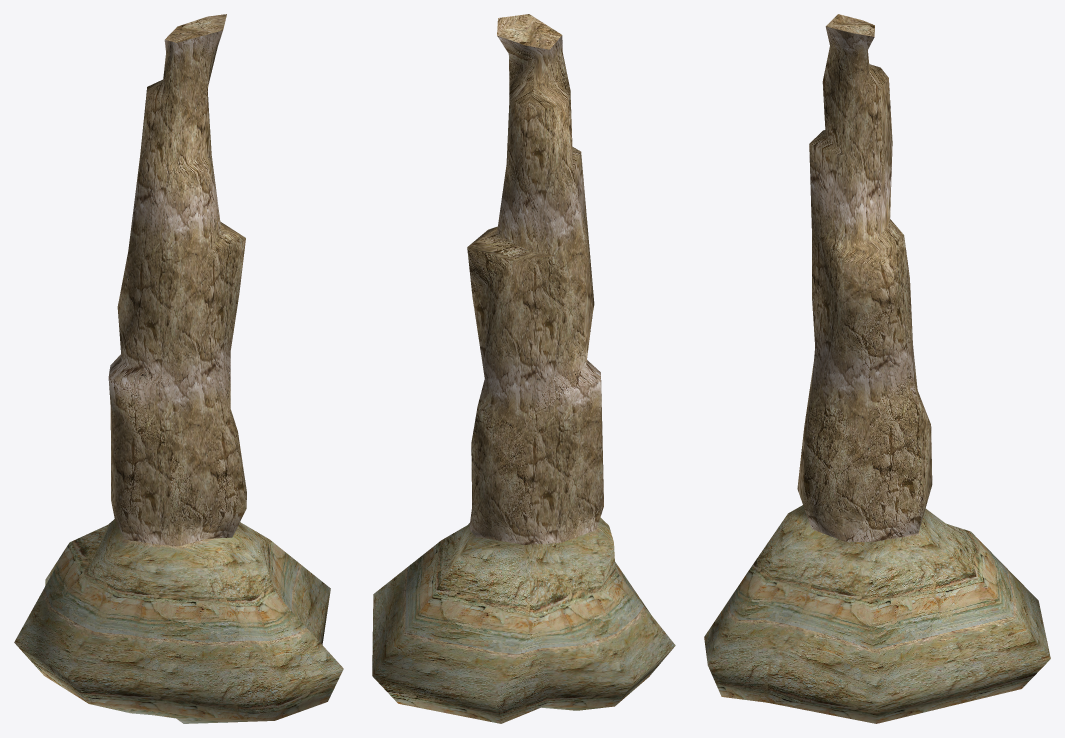
Rendered from dsrt_endr_column_a1_l0.fbx.
The picture shows the model from 3 angles, left to right: view 1: azimuth 30°, elevation 25°; view 2: azimuth 150°, elevation 25°; view 3: azimuth 270°, elevation 25°; orthographic projection. The views are drawn at different scales.
Visible parts, largest first — view 1: mesh_node; view 2: mesh_node; view 3: mesh_node.
Part boxes in pixels (<box>): mesh_node: <box>14,14,343,723</box>; mesh_node: <box>372,14,675,723</box>; mesh_node: <box>704,14,1050,723</box>.
Bounding box in the file's own units: 11.26 × 24.87 × 11.57.
Materials: 2 (2 with a texture image).
